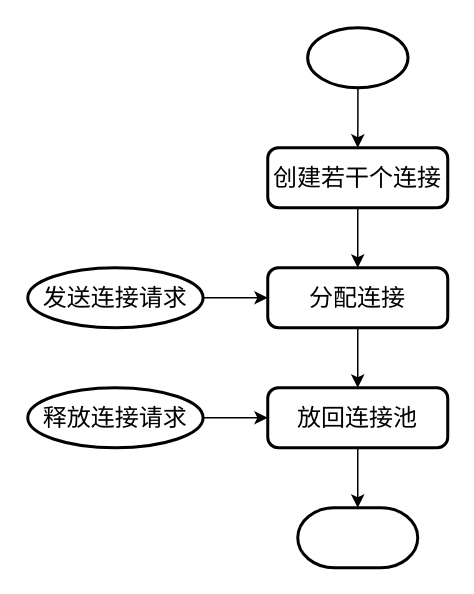
The diagram is 474 pixels wide and 594 high, and some of its shapes have lost their labels. The centre of each missing label's shape, as x and y in pixels:
"开始" belongs at pixel 357 57.
"结束" belongs at pixel 357 537.
